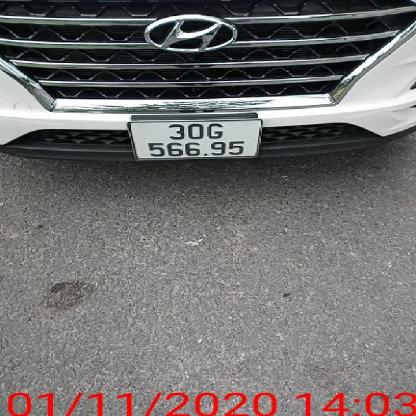biensoxe: (125, 116, 272, 164)
